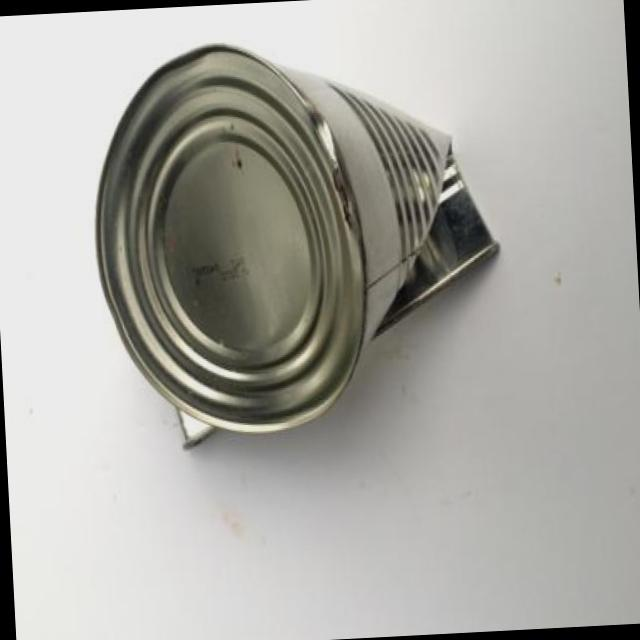kim_loai: (94, 43, 497, 447)
